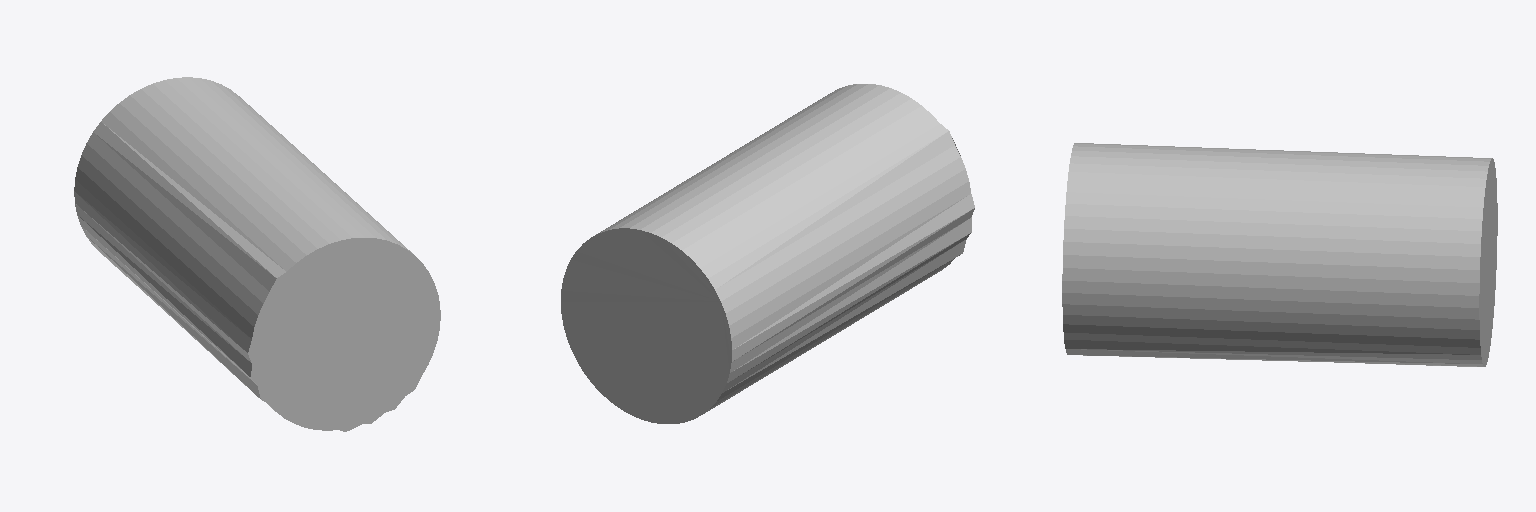
The model's file is torso_l1_0.obj.
3 views of the same model, side by side, from view 1: azimuth 30°, elevation 25°; view 2: azimuth 150°, elevation 25°; view 3: azimuth 270°, elevation 25° (orthographic).
Size of the model in its own units: 0.0036 by 0.003 by 0.0062.